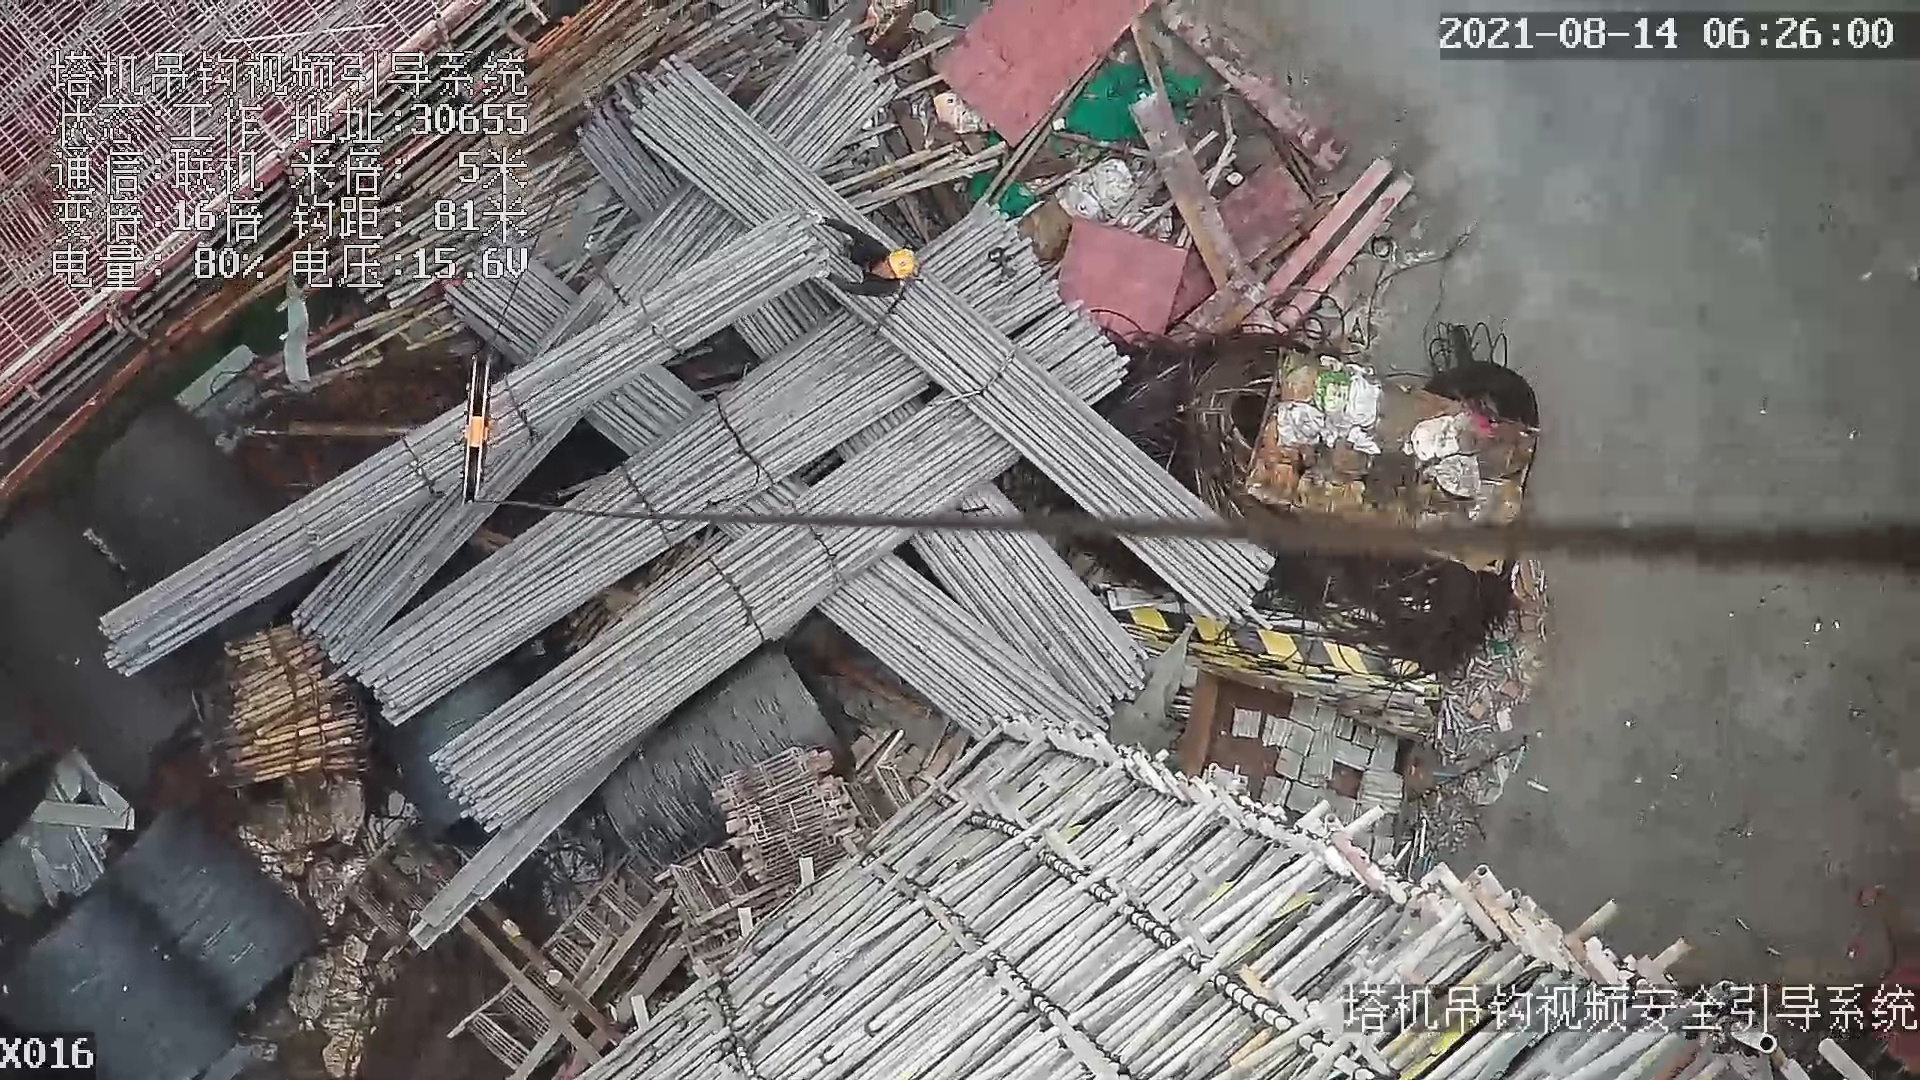helmet: (888, 245, 917, 280)
hook: (455, 354, 496, 512)
person: (786, 194, 917, 295)
